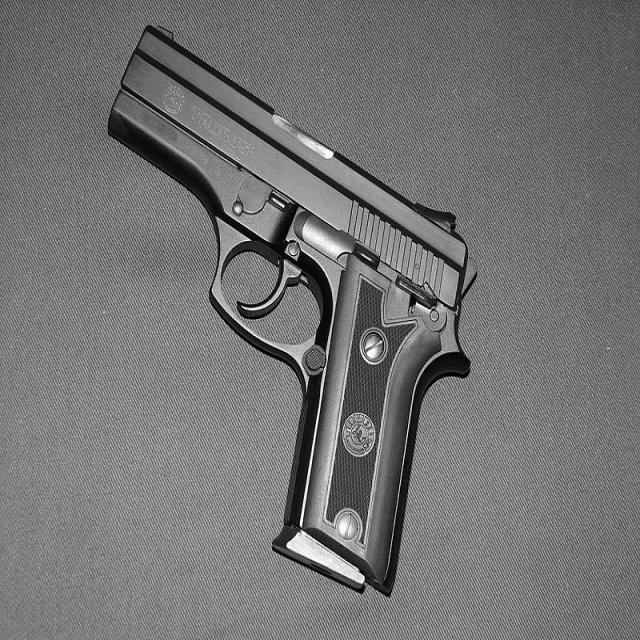Pistol: (97, 3, 509, 615)
